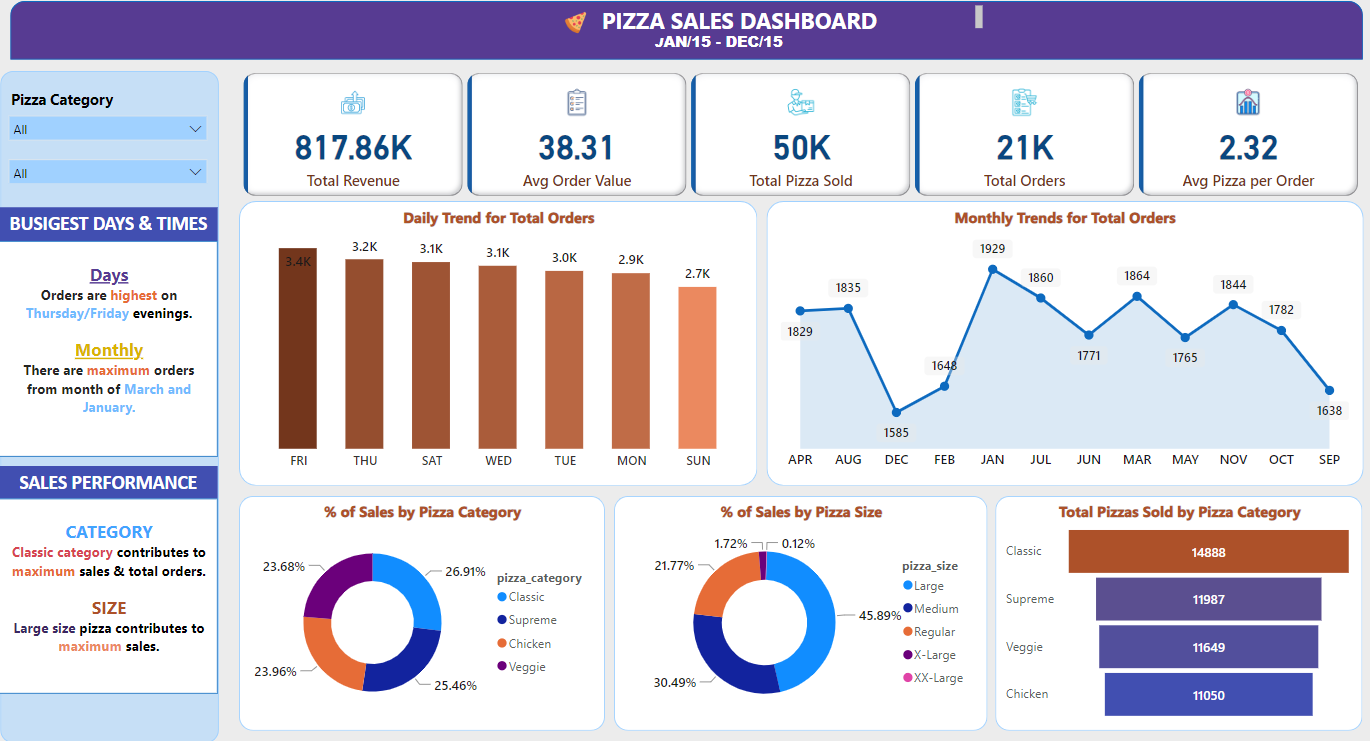

Layout of this report page (visuals, bound fields, positions):
{"tool":"powerbi","page":{"name":"HOME","canvas":[1500,820],"ordinal":0},"visuals":[{"type":"shape","box":[1.4,87.1,238.3,732.6],"z":0},{"type":"cardVisual","fields":{"Data":["da_project pizza_sales.Total Revenue","da_project pizza_sales.Avg Order Value","da_project pizza_sales.Total Pizza Sold","da_project pizza_sales.Total Orders","da_project pizza_sales.Avg Pizza per Order"]},"box":[261.4,84.4,1225.5,144.3],"z":1000},{"type":"shape","box":[12.3,10.9,1474.7,64],"z":2000},{"type":"textbox","box":[544.7,10.9,532.4,38.1],"z":3000},{"type":"textbox","box":[694.4,38.1,179.7,36.8],"z":4000},{"type":"image","box":[611.4,4.1,34,59.9],"z":5000},{"type":"shape","box":[261.4,228.8,565.1,310.5],"z":6000},{"type":"columnChart","title":"Daily Trend for Total Orders","fields":{"Category":["da_project pizza_sales.Order Day"],"Y":["da_project pizza_sales.Total Orders"]},"box":[271,235.6,547.4,295.5],"z":7000},{"type":"shape","box":[836.1,228.8,650.9,310.5],"z":8000},{"type":"areaChart","title":"Monthly Trends for Total Orders","fields":{"Category":["da_project pizza_sales.Month Name"],"Y":["da_project pizza_sales.Total Orders"]},"box":[847,235.6,629.1,295.5],"z":9000},{"type":"shape","box":[261.4,550.1,399,256],"z":10000},{"type":"shape","box":[669.9,550.1,407.1,256],"z":11000},{"type":"shape","box":[1086.6,550.1,400.3,256],"z":12000},{"type":"donutChart","title":"% of Sales by Pizza Category","fields":{"Category":["da_project pizza_sales.pizza_category"],"Y":["da_project pizza_sales.Total Revenue"]},"box":[266.9,555.6,389.4,243.7],"z":13000},{"type":"donutChart","title":"% of Sales by Pizza Size","fields":{"Category":["da_project pizza_sales.pizza_size"],"Y":["da_project pizza_sales.Total Revenue"]},"box":[679.5,555.6,389.4,243.7],"z":14000},{"type":"funnel","title":"Total Pizzas Sold by Pizza Category","fields":{"Category":["da_project pizza_sales.pizza_category"],"Y":["da_project pizza_sales.Total Pizza Sold"]},"box":[1092.9,556.1,388.8,244.6],"z":15000},{"type":"textbox","box":[0,235.6,238.3,36.8],"z":16000},{"type":"slicer","fields":{"Values":["da_project pizza_sales.pizza_category"]},"box":[0,102.1,236.9,70.8],"z":17000},{"type":"slicer","fields":{"Values":["da_project pizza_sales.order_date"]},"box":[0,172.9,236.9,36.8],"z":18000},{"type":"textbox","box":[0,272.3,238.3,235.6],"z":19000},{"type":"textbox","box":[0,518,238,36],"z":20000},{"type":"textbox","box":[0,552.8,238.3,212.4],"z":21000}]}

Visuals, with their boxes in screenshot pixels (x1, y1, x2, y2), scaled from the page's 1500x820 canvas onto the 1370x741 screenshot:
shape: [left=1, top=79, right=219, bottom=740]
cardVisual - da_project pizza_sales.Total Revenue x da_project pizza_sales.Avg Order Value: [left=239, top=76, right=1358, bottom=207]
shape: [left=11, top=10, right=1358, bottom=68]
textbox: [left=497, top=10, right=984, bottom=44]
textbox: [left=634, top=34, right=798, bottom=68]
image: [left=558, top=4, right=589, bottom=58]
shape: [left=239, top=207, right=755, bottom=487]
"Daily Trend for Total Orders" columnChart: [left=248, top=213, right=747, bottom=480]
shape: [left=764, top=207, right=1358, bottom=487]
"Monthly Trends for Total Orders" areaChart: [left=774, top=213, right=1348, bottom=480]
shape: [left=239, top=497, right=603, bottom=728]
shape: [left=612, top=497, right=984, bottom=728]
shape: [left=992, top=497, right=1358, bottom=728]
"% of Sales by Pizza Category" donutChart: [left=244, top=502, right=599, bottom=722]
"% of Sales by Pizza Size" donutChart: [left=621, top=502, right=976, bottom=722]
"Total Pizzas Sold by Pizza Category" funnel: [left=998, top=503, right=1353, bottom=724]
textbox: [left=0, top=213, right=218, bottom=246]
slicer - da_project pizza_sales.pizza_category: [left=0, top=92, right=216, bottom=156]
slicer - da_project pizza_sales.order_date: [left=0, top=156, right=216, bottom=189]
textbox: [left=0, top=246, right=218, bottom=459]
textbox: [left=0, top=468, right=217, bottom=501]
textbox: [left=0, top=500, right=218, bottom=691]
